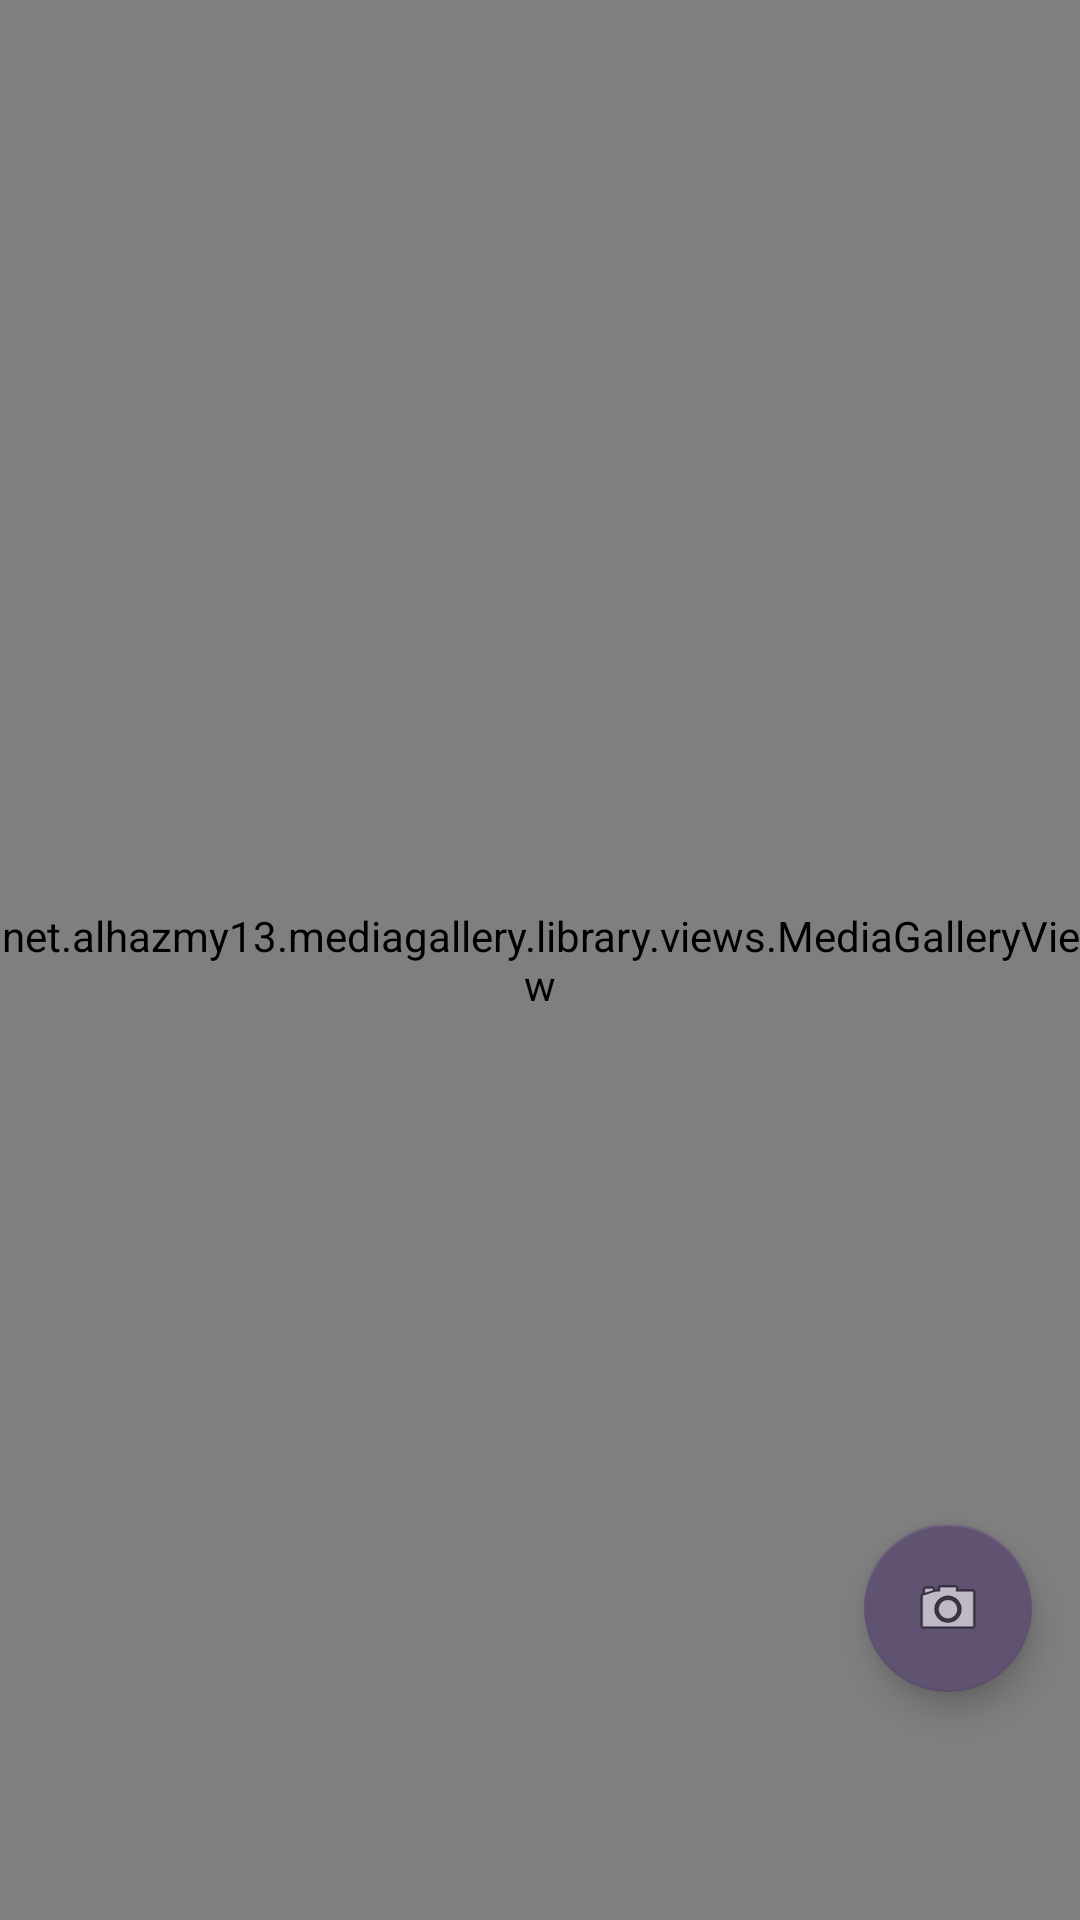

Point at icon controls on the screen. Image size 1080*1920, points as [x,y].
camera: [948,1609]
